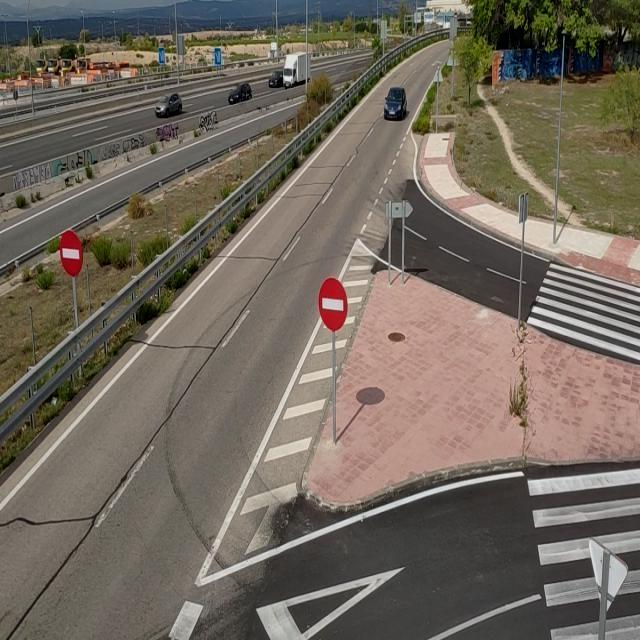Car: (153, 91, 184, 119), (382, 87, 406, 121), (226, 82, 253, 107), (268, 72, 282, 88)
Truck: (282, 52, 312, 88)
